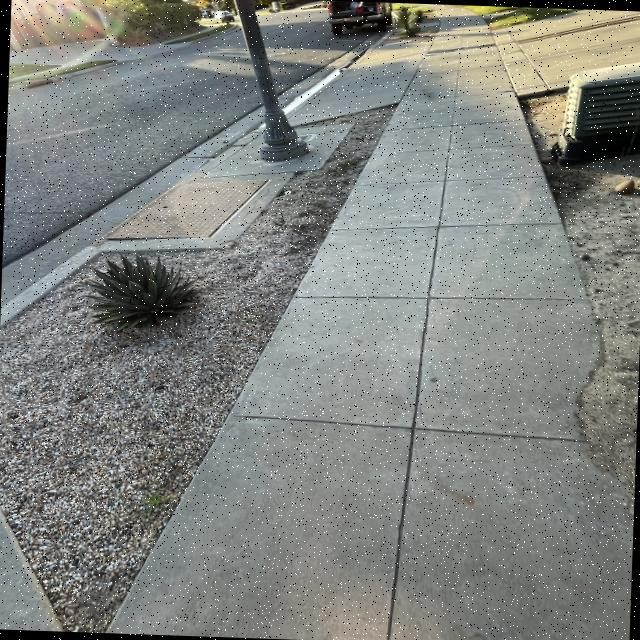curb: (3, 216, 225, 268)
road: (12, 81, 160, 198), (98, 60, 259, 126)
walkway: (198, 466, 605, 640), (282, 316, 596, 508), (329, 236, 566, 413), (361, 173, 546, 296), (403, 103, 522, 184), (438, 20, 492, 126)
walkway-edge: (512, 92, 621, 336), (576, 314, 640, 499), (128, 470, 202, 604), (362, 104, 406, 150)
